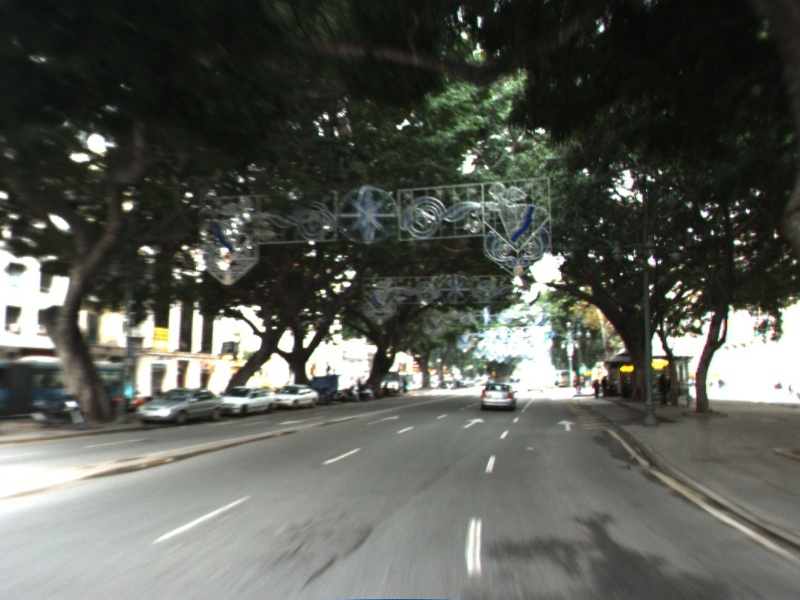STRAIGHT: (363, 413, 402, 427), (555, 417, 579, 433), (460, 416, 487, 430)
